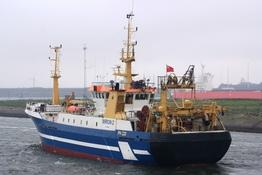otherboat: (22, 7, 233, 167)
